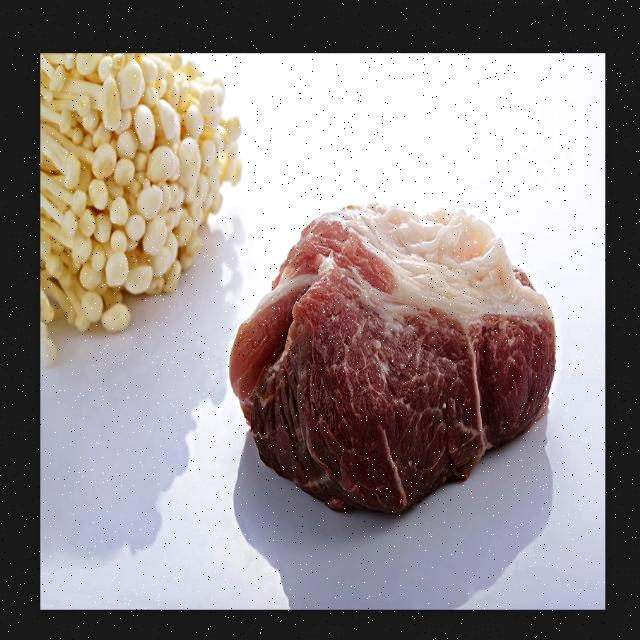meat: (232, 196, 574, 517)
